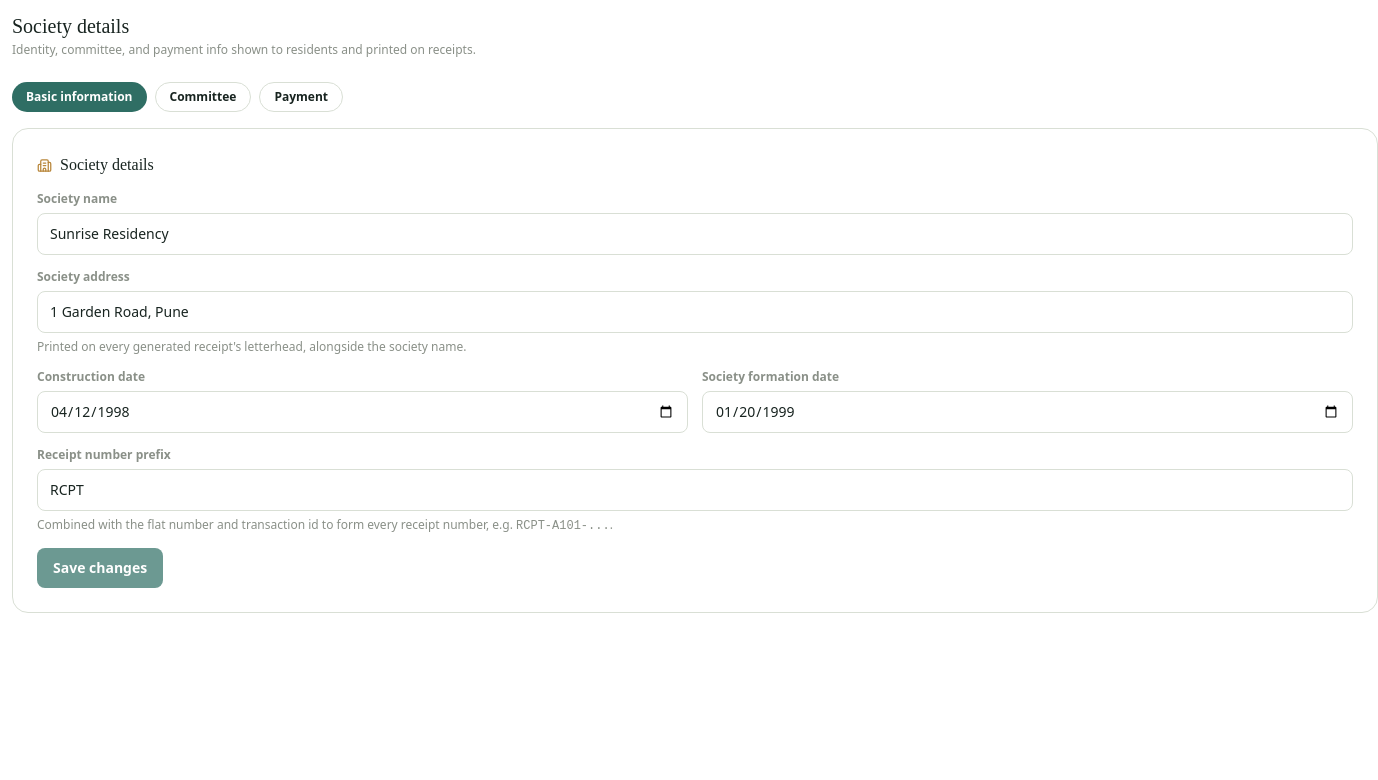
it: SocietyDetailsPage › Basic information tab › rejects a receipt number prefix with invalid characters
Type "not valid!" into the field labelled "Receipt number prefix".
click(695, 490); type("not valid!")  # box [37, 469, 1353, 511]
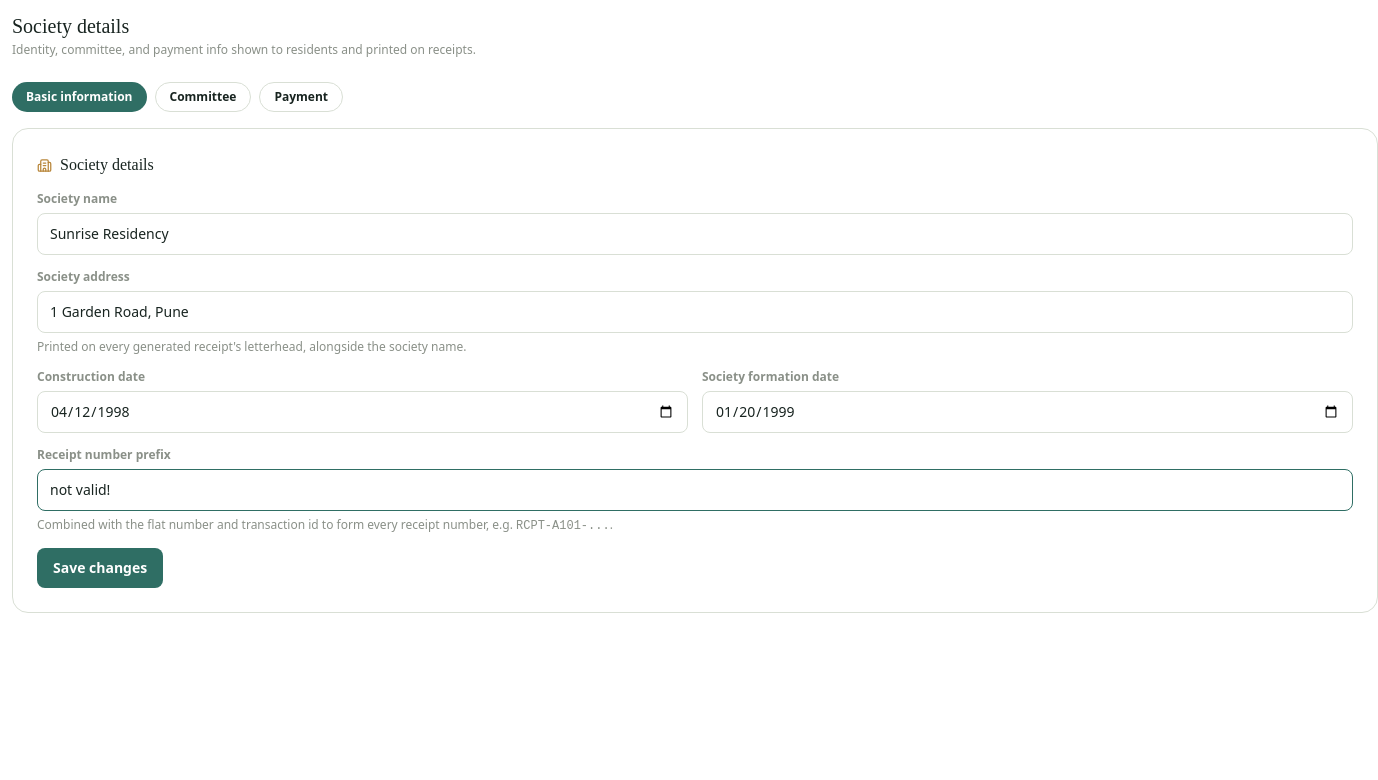
Click the button "Save changes".
click(100, 568)  # box [37, 548, 163, 588]
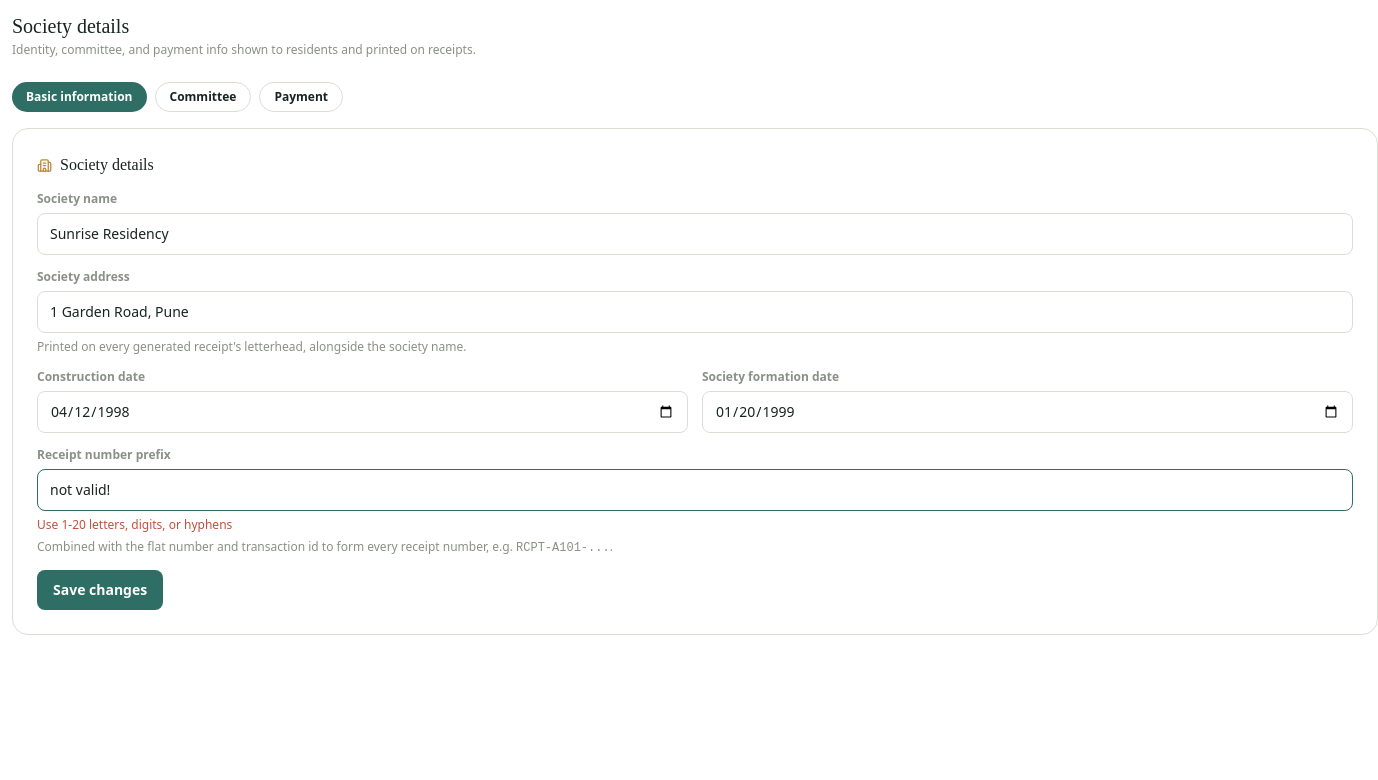
expect the text "Use 1-20 letters, digits, or hyphens" is shown: met, box [37, 516, 232, 533]
